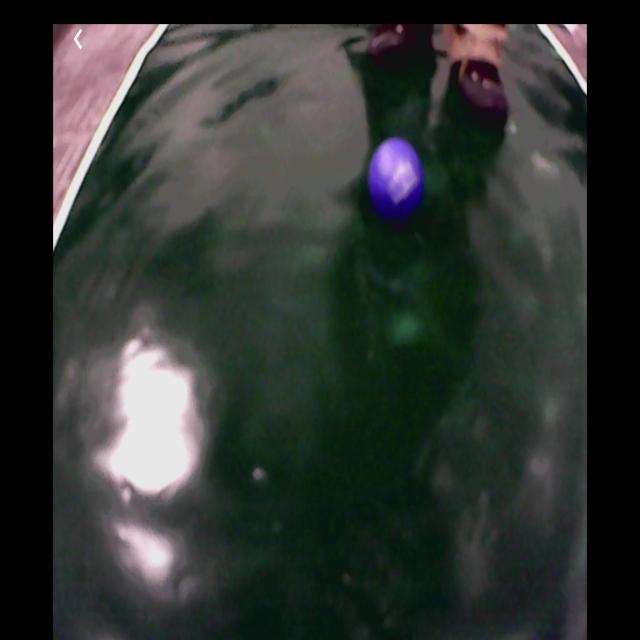ball: (369, 139, 421, 210)
